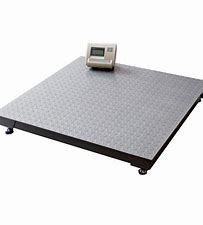Scissor Lift: (2, 42, 203, 178)
